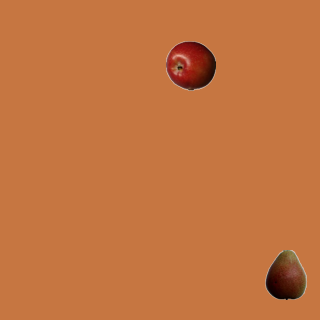Apple Braeburn: (165, 40, 215, 90)
Pear Forelle: (260, 249, 310, 299)
